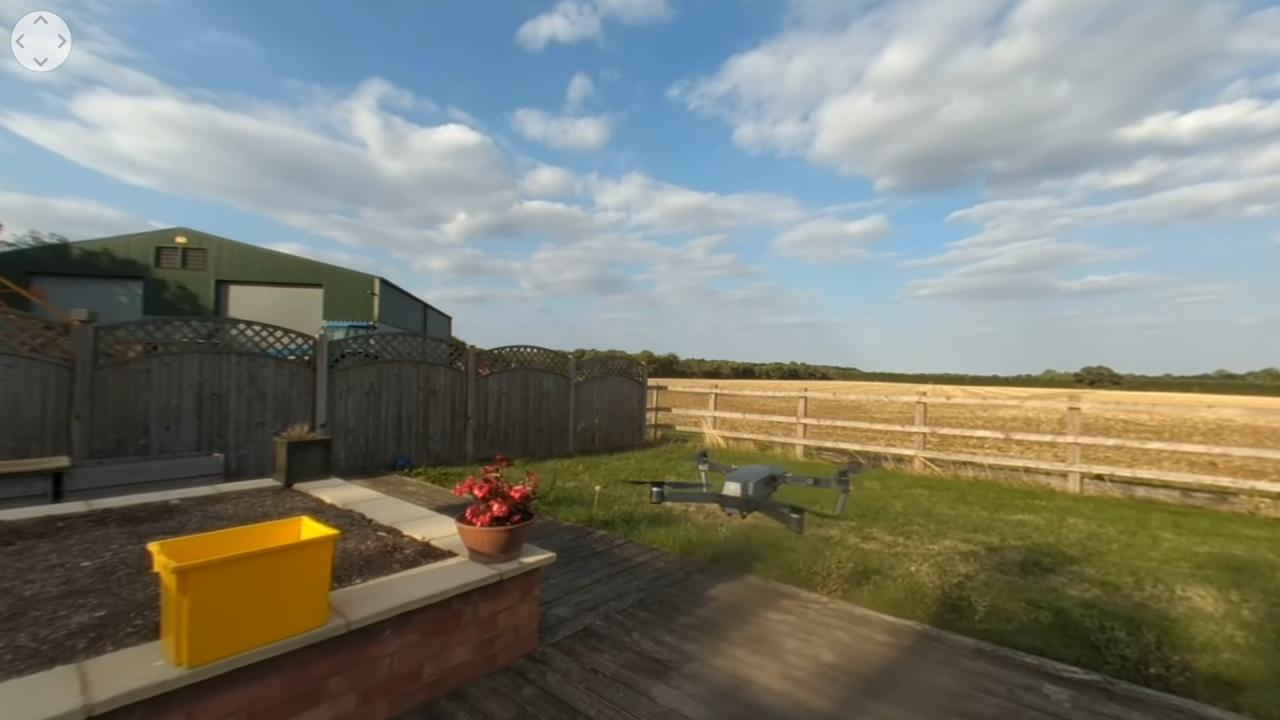Drone: (602, 445, 882, 543)
